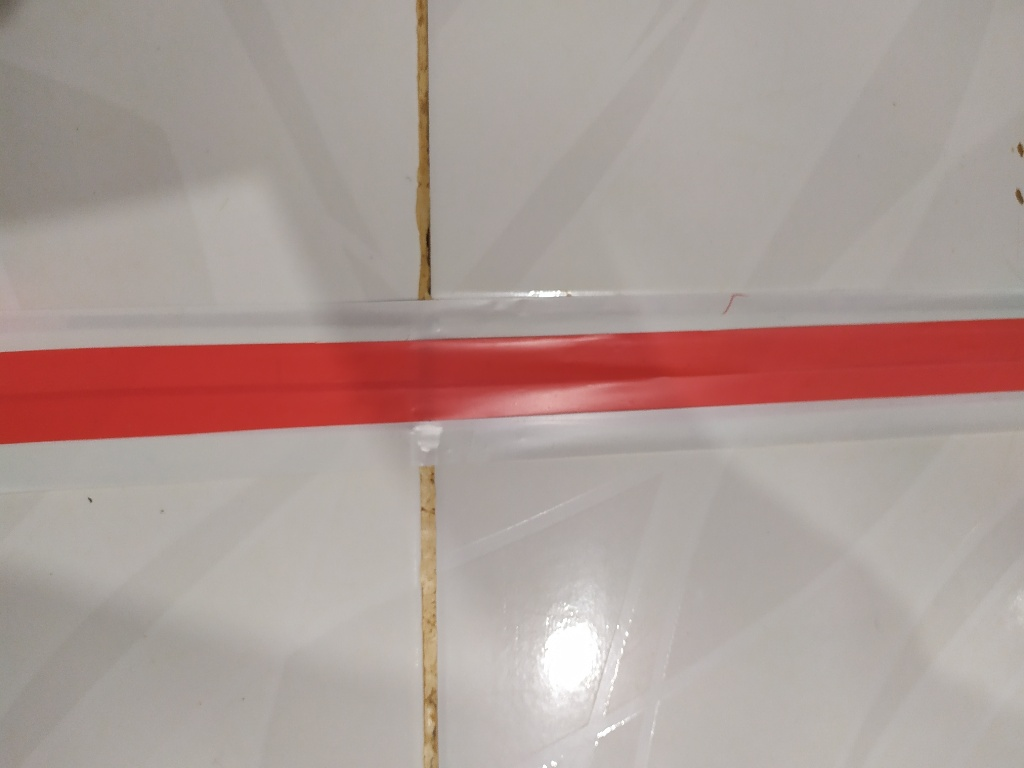reta: (5, 298, 1024, 439)
